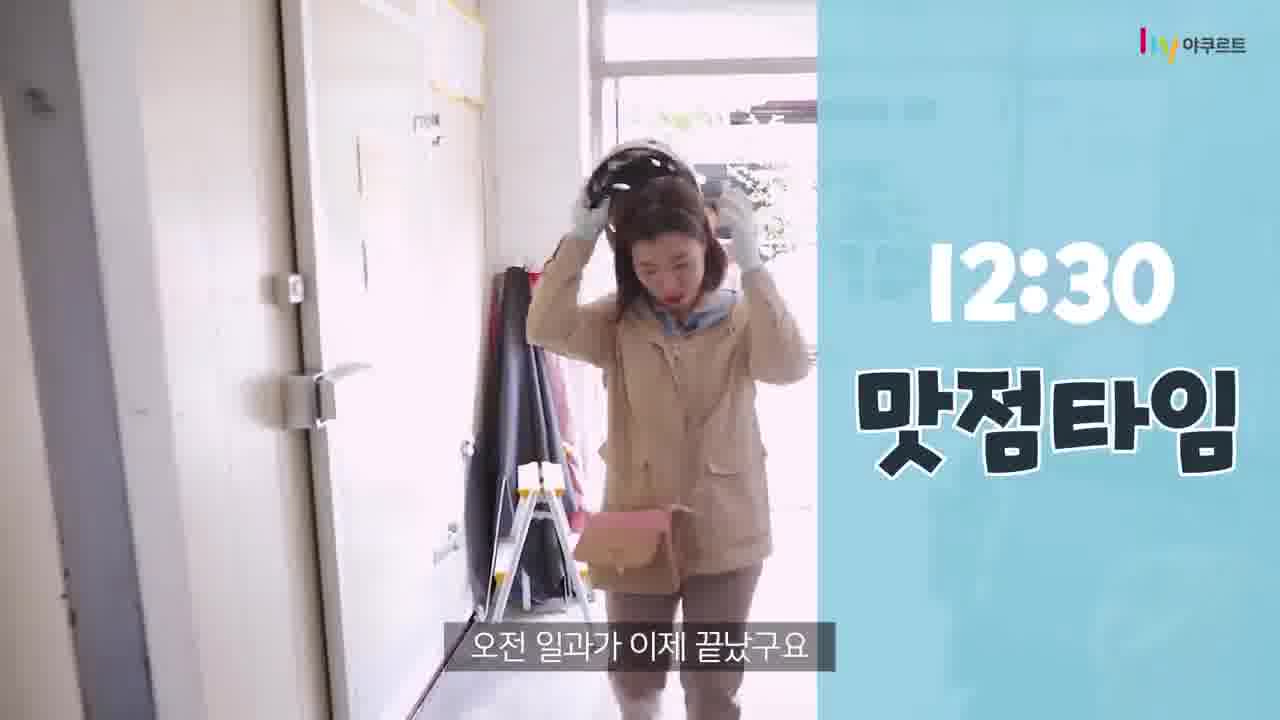Yakurut: (525, 146, 820, 717)
